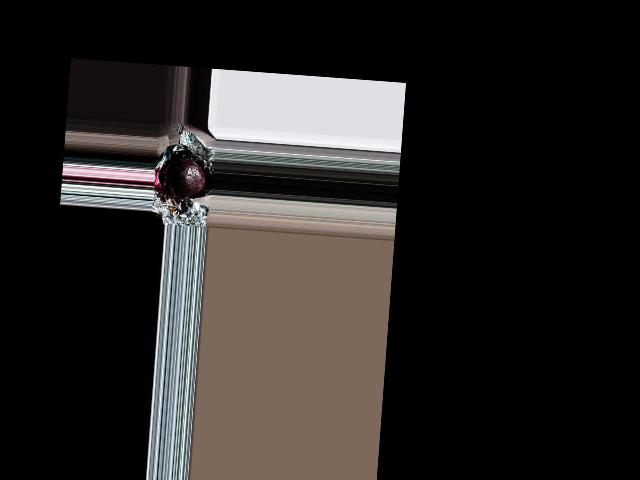beet: (164, 157, 206, 202)
